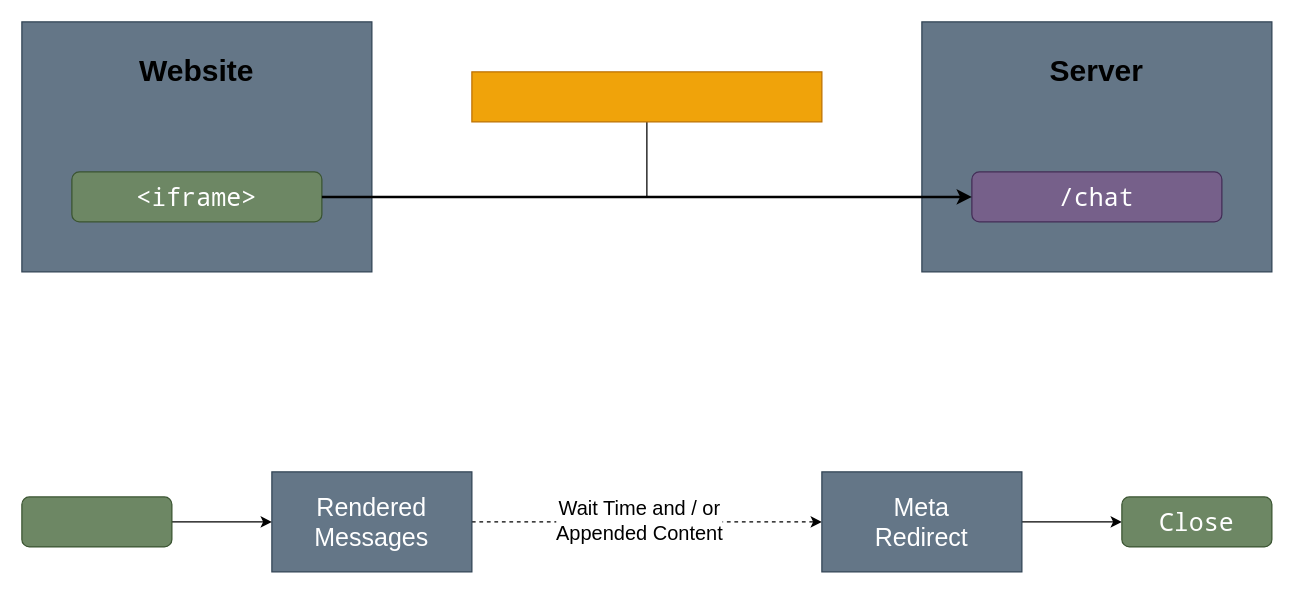
The diagram is 1294 pixels wide and 594 high, and some of its shapes have lost their labels. The shapes that lost their labels are listed below. From the top down, each one's box as (x1, y1, x2, y2) in pixels, then its label:
(471, 71, 822, 122): Transcoding : Chunked
(21, 496, 172, 547): Open
